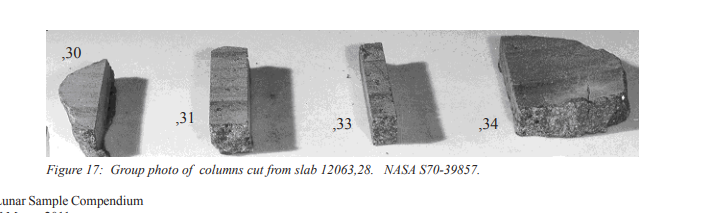Basalt: (482, 35, 636, 137), (53, 51, 117, 153), (205, 44, 263, 155), (351, 40, 409, 146)
